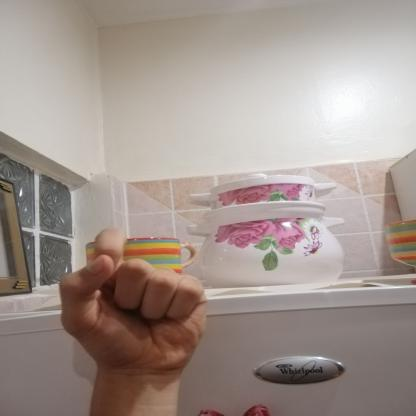FAA: (44, 219, 224, 382)
